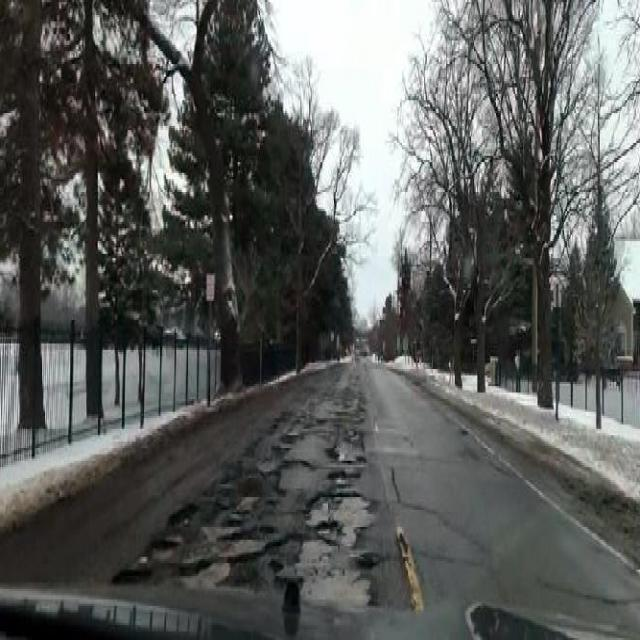buraco: (113, 559, 153, 591), (168, 497, 199, 531), (228, 520, 278, 538), (116, 565, 155, 588), (282, 578, 303, 608), (330, 465, 362, 484), (316, 516, 341, 538), (173, 501, 195, 525), (332, 470, 358, 486), (318, 519, 339, 537), (287, 582, 299, 608), (264, 522, 274, 533)
